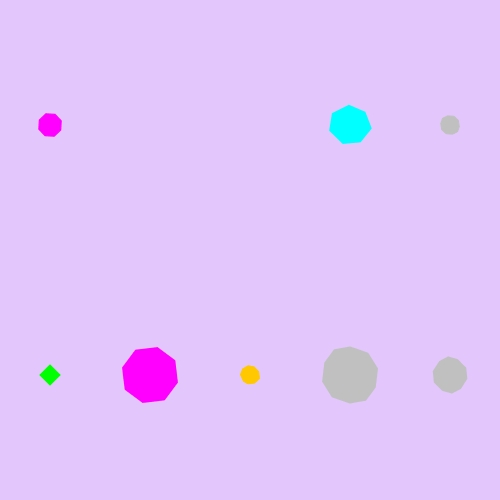decagon: (317, 345, 384, 406), (428, 355, 473, 396), (435, 111, 465, 139)
heptagon: (326, 102, 375, 149)
nonagon: (236, 361, 265, 389)
octagon: (118, 343, 183, 408), (34, 109, 67, 142)
quadrilateral: (35, 360, 65, 390)
